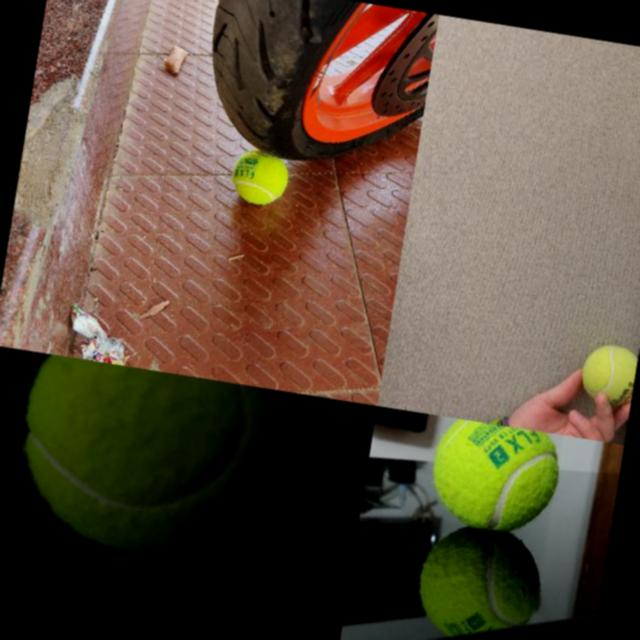tennis-ball: (7, 352, 284, 569), (424, 416, 566, 541), (576, 340, 638, 410), (228, 152, 290, 208)
